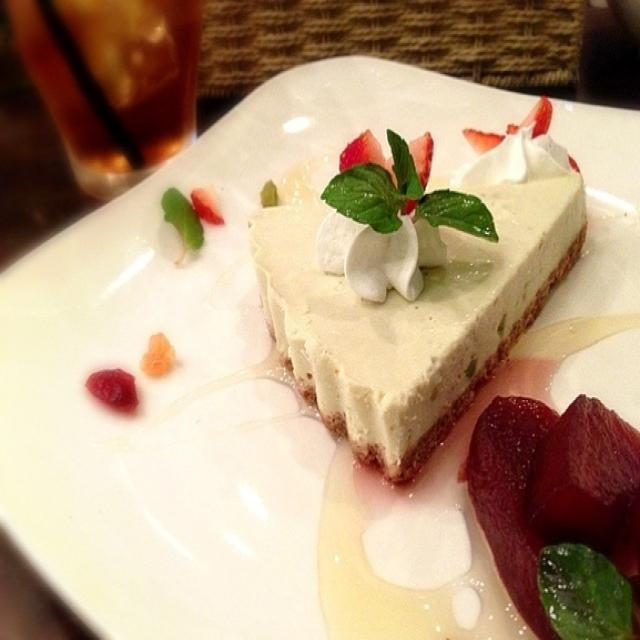Rare cheese cake: (198, 80, 616, 470)
